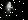person: (6, 1, 15, 16)
